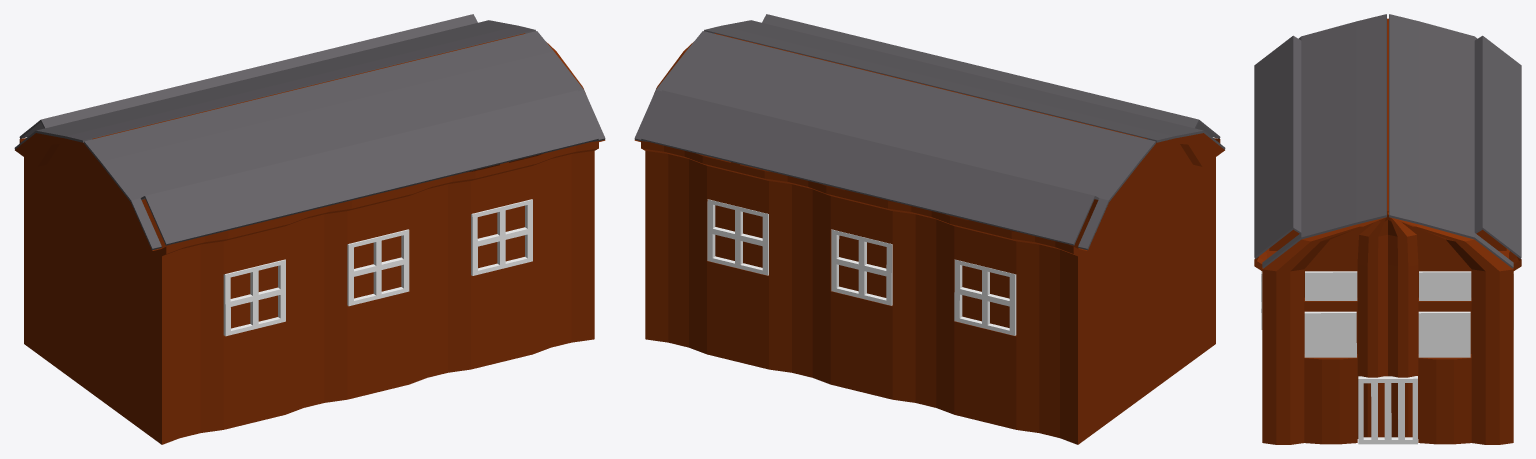
The model's file is barn.fbx.
The picture shows the model from 3 angles, left to right: view 1: azimuth 30°, elevation 25°; view 2: azimuth 150°, elevation 25°; view 3: azimuth 270°, elevation 25°; orthographic projection. The views are drawn at different scales.
Parts seen in each view (by area): view 1: building, roof, window; view 2: building, roof, window; view 3: roof, building, window.
Part boxes in pixels (left/top/right/bottom): building: left=15, top=33, right=605, bottom=444; roof: left=14, top=14, right=605, bottom=250; window: left=223, top=199, right=532, bottom=336; building: left=634, top=33, right=1224, bottom=444; roof: left=634, top=14, right=1225, bottom=250; window: left=707, top=199, right=1016, bottom=335; roof: left=1254, top=14, right=1521, bottom=268; building: left=1254, top=18, right=1521, bottom=444; window: left=1261, top=271, right=1513, bottom=444.
Size of the model in its own units: 809 by 433 by 450.
